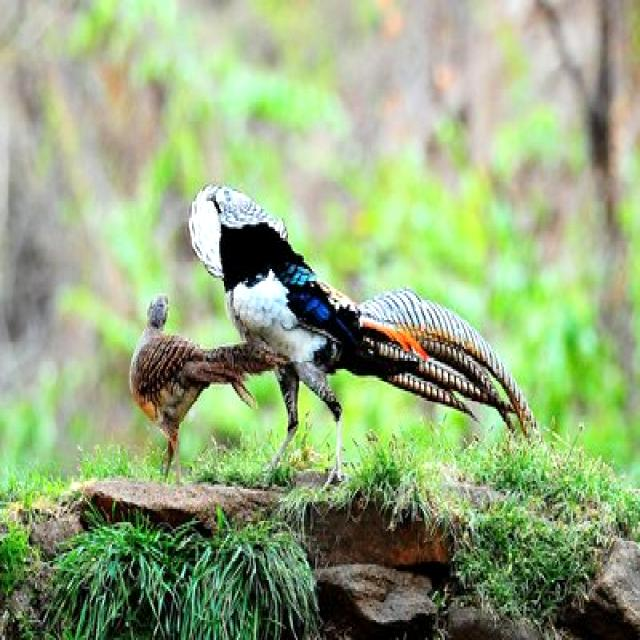Chrysolophus amherstiae: (360, 289, 533, 431)
